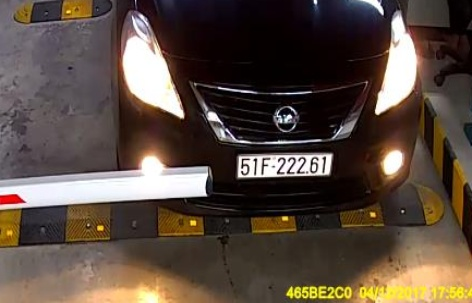plate: (237, 153, 333, 180)
